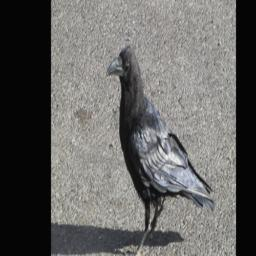Crow: (106, 42, 216, 256)
